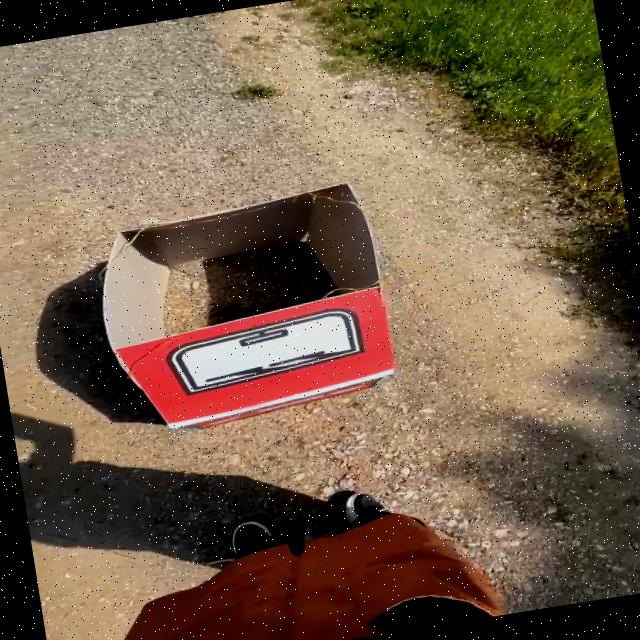red_car: (27, 148, 509, 495)
